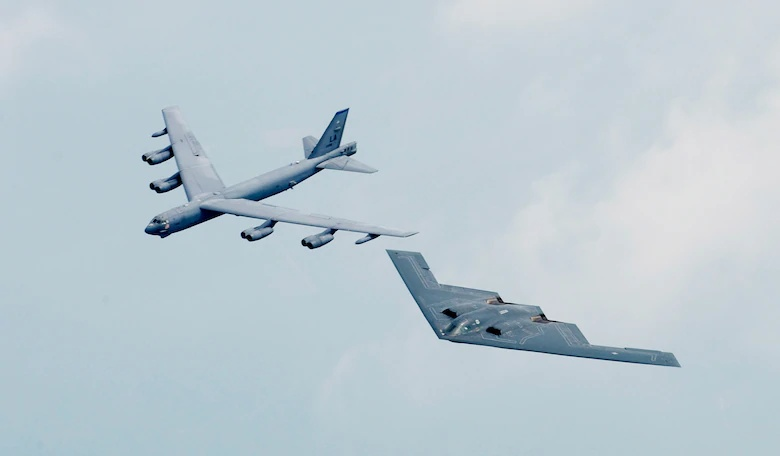B2: (384, 248, 682, 368)
B52: (141, 104, 420, 250)
